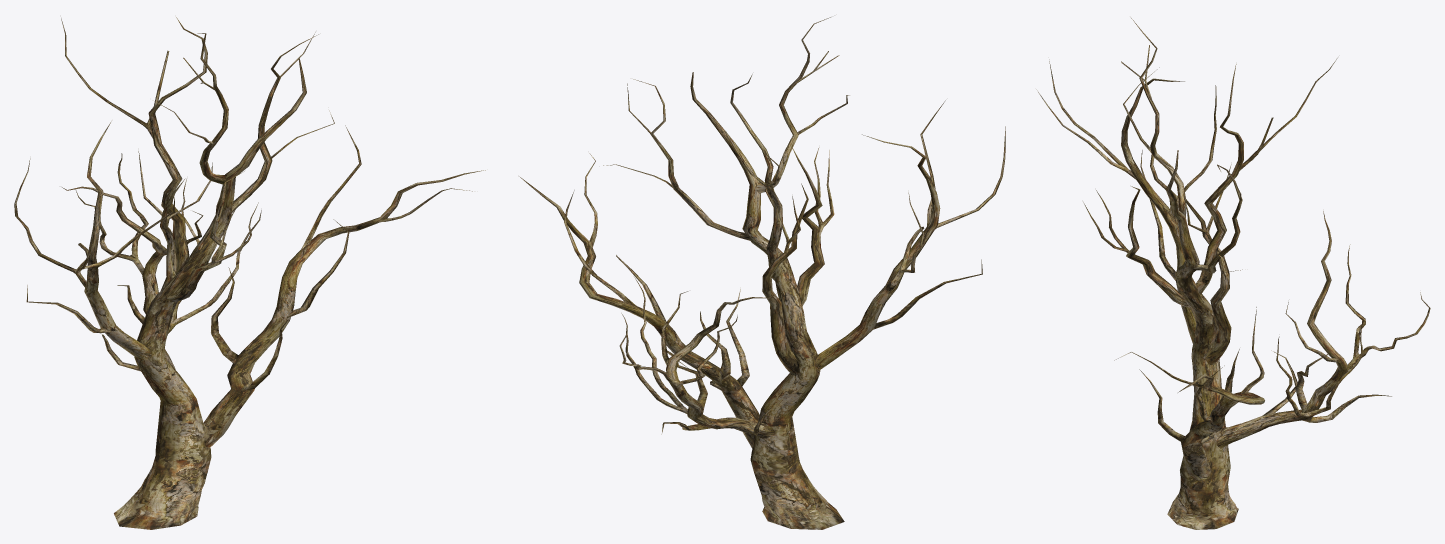
The model's file is tree.fbx.
3 renders of one model, left to right at view 1: azimuth 30°, elevation 25°; view 2: azimuth 150°, elevation 25°; view 3: azimuth 270°, elevation 25°, orthographic. The views are drawn at different scales.
Visible parts, largest first — view 1: 枯树; view 2: 枯树; view 3: 枯树.
Boxes of the visible parts, bbox=[...] form: 枯树: bbox=[14, 17, 485, 529]; 枯树: bbox=[519, 17, 1005, 529]; 枯树: bbox=[1036, 18, 1430, 529].
Size of the model in its own units: 886 by 896 by 647.
